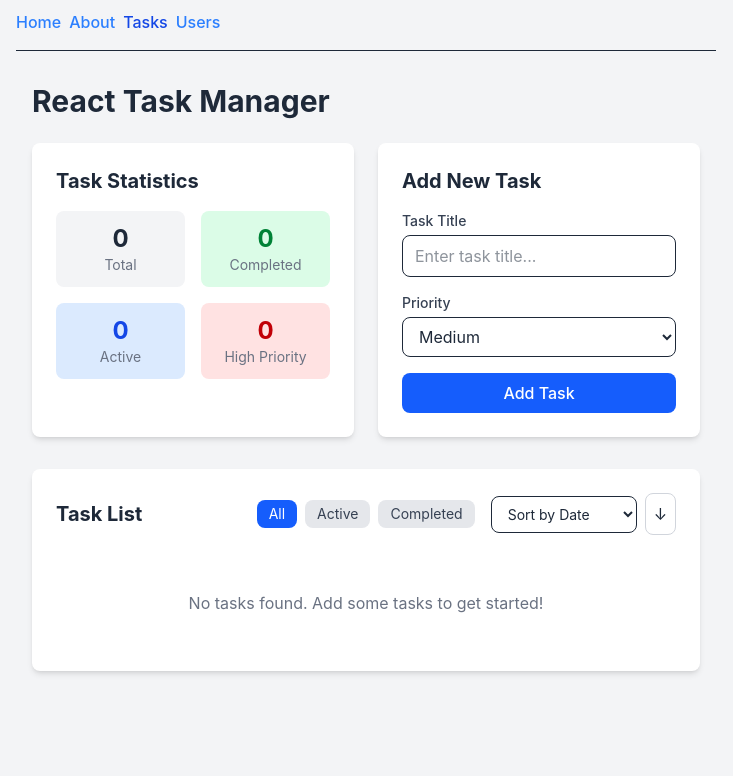
Test: TaskPage › フィルタリング機能 › Completedフィルターで完了タスクのみ表示
Step 1. Type "Task Todo" into the field labelled "Task Title" → (539, 256), box [402,235,676,277]
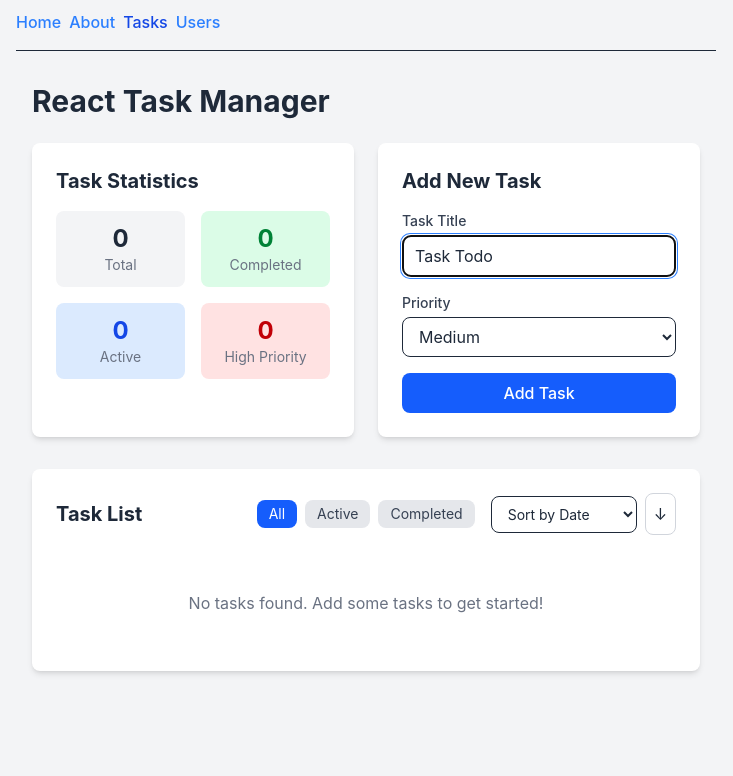
Step 2. Click the button "Add Task" → (539, 393), box [402,373,676,413]
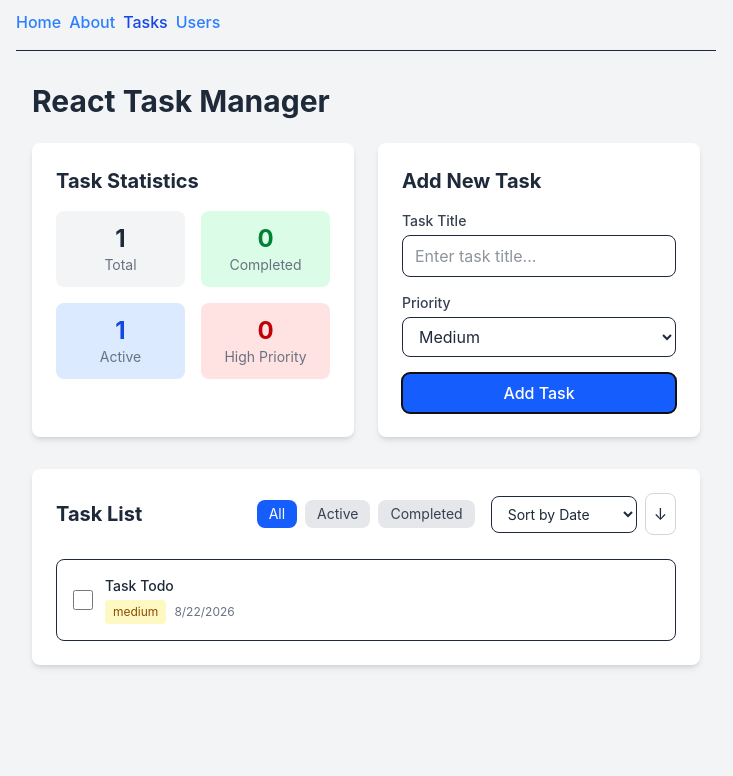
Step 3. Type "Task Done" into the field labelled "Task Title" → (539, 256), box [402,235,676,277]
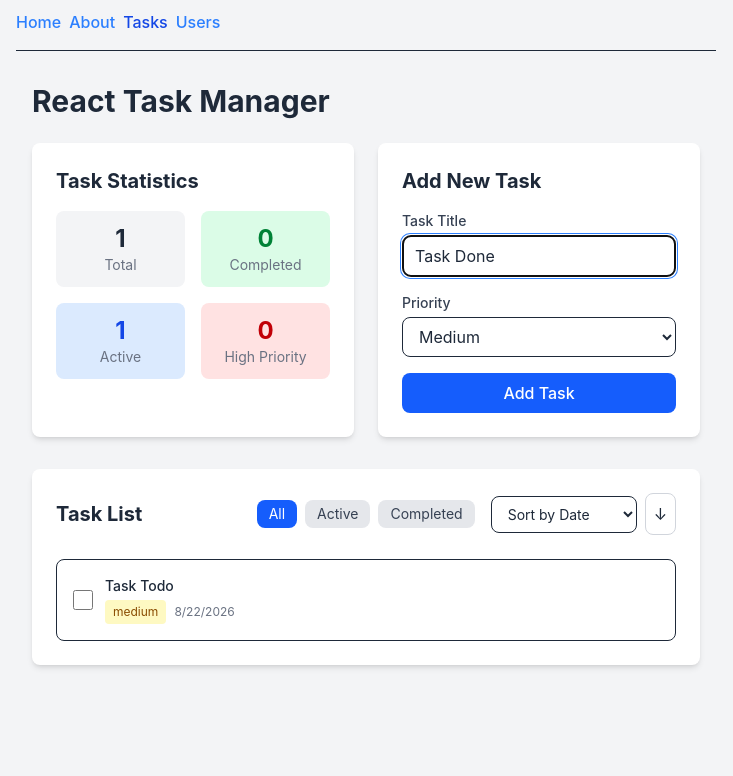
Step 4. Click the button "Add Task" → (539, 393), box [402,373,676,413]
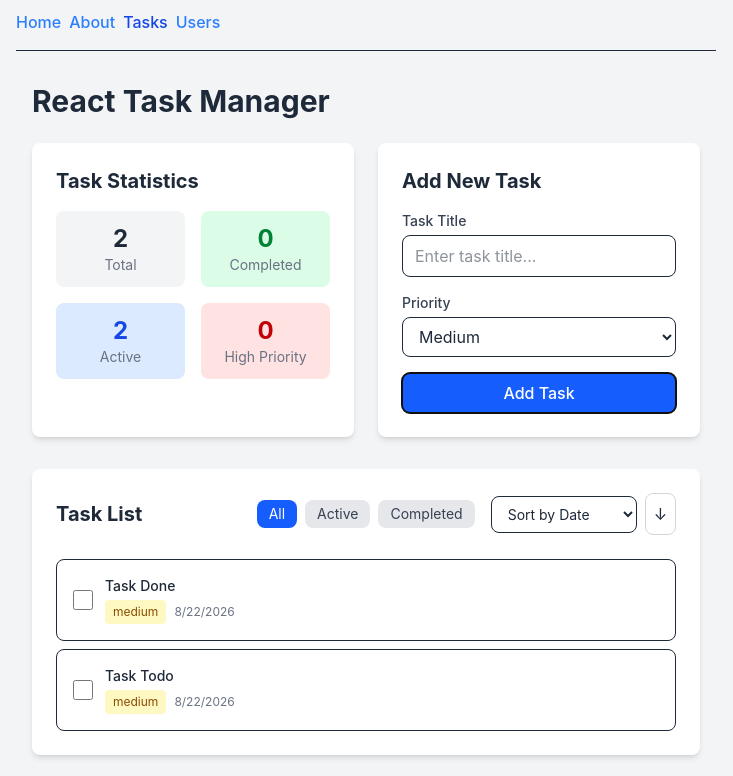
Check: the text "Task Todo" is shown, box [105,667,174,684]
Check: the text "Task Done" is shown, box [105,577,175,594]
Step 5. Click the checkbox next to "Task Done" → (83, 600), box [73,590,93,610]
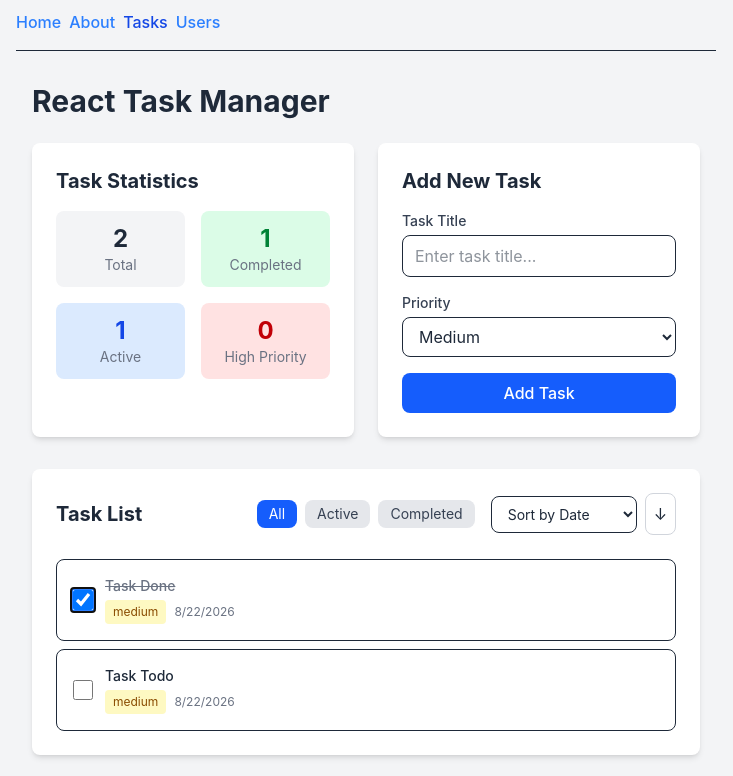
Check: the checkbox next to "Task Done" is checked, box [73,590,93,610]
Completedフィルターをクリック
Step 6. Click the button "Completed" → (427, 514), box [378,500,475,528]
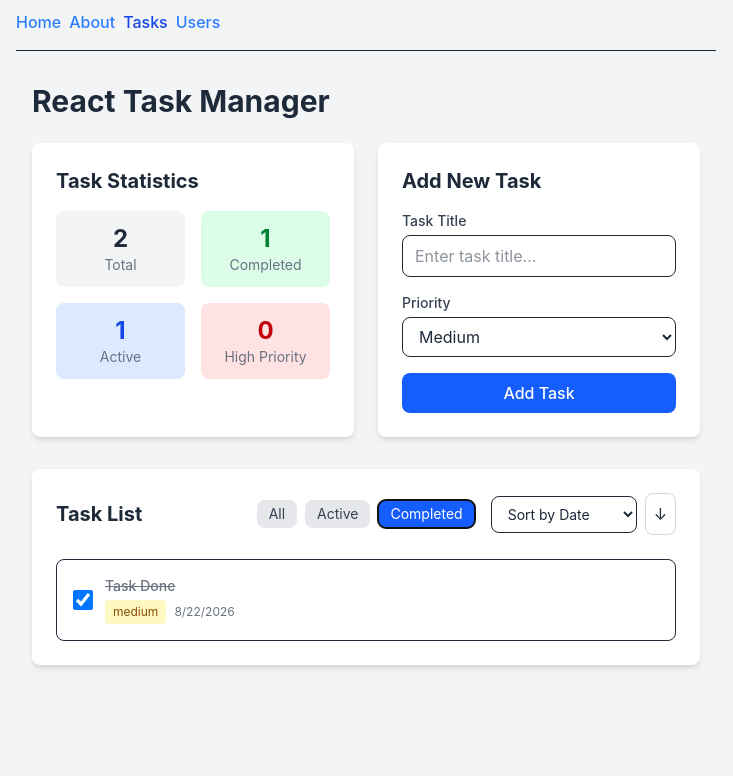
Check: the text "Task Done" is shown, box [105,577,175,594]
Check: the text "Task Todo" is gone
